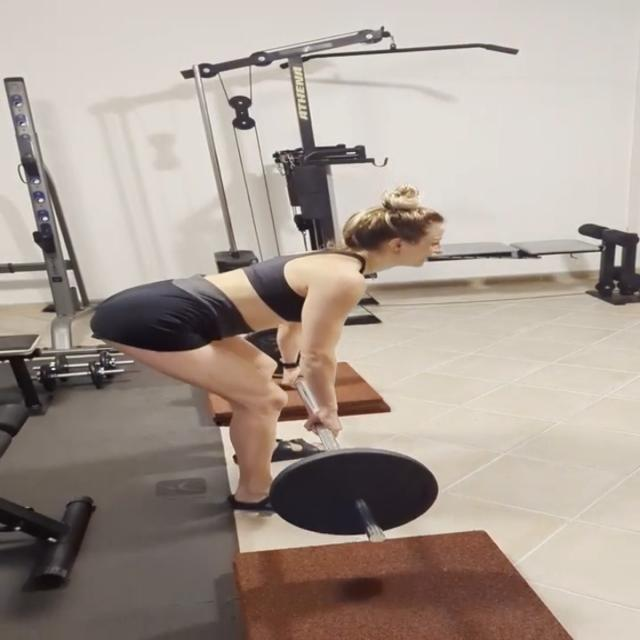barbell: (264, 444, 443, 549)
